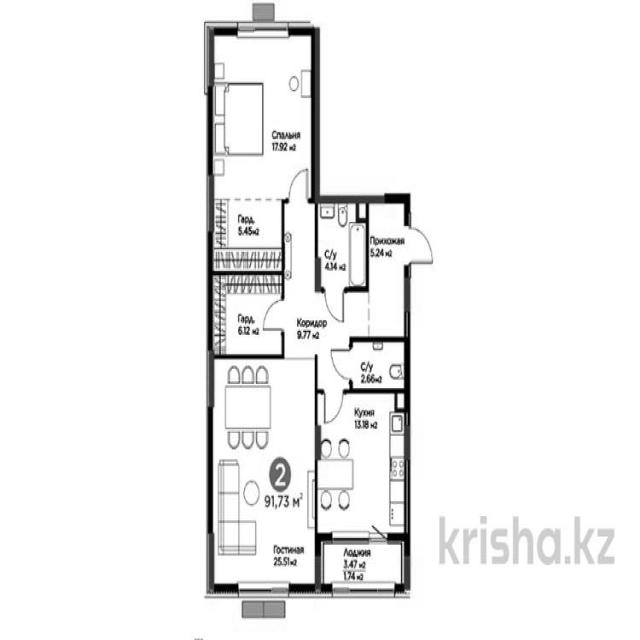balcony: (322, 542, 407, 587)
bathroom: (319, 204, 365, 291), (352, 345, 408, 387)
hallway: (372, 202, 406, 336), (284, 203, 312, 356)
kitchen: (317, 390, 405, 533)
living_room: (211, 362, 318, 591), (211, 32, 315, 197)
other: (216, 279, 284, 355), (214, 201, 284, 273)
